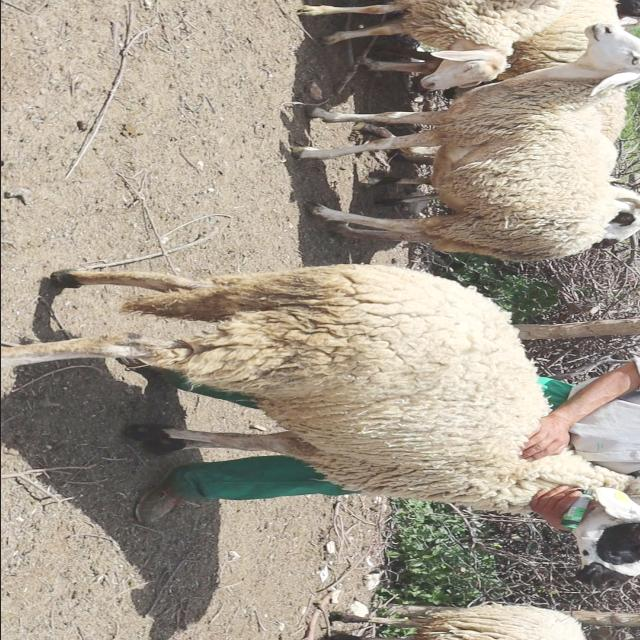Score_5: (1, 264, 640, 584)
